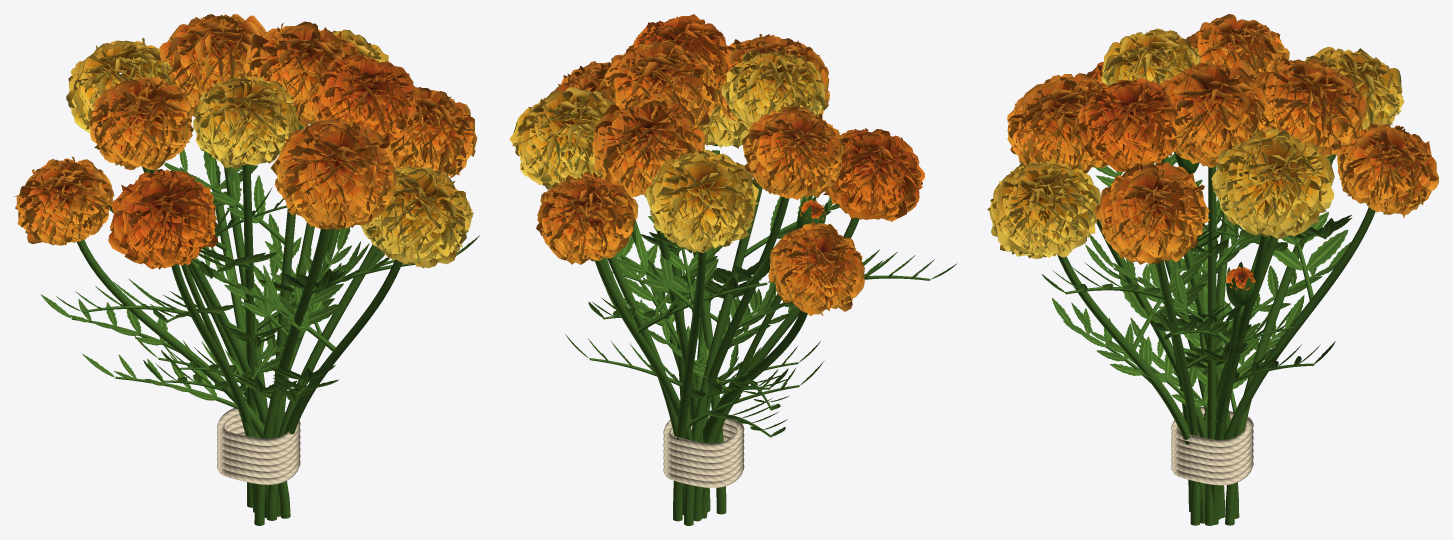
The model's file is marigold_cluster_hero.glb.
The picture shows the model from 3 angles, left to right: view 1: azimuth 30°, elevation 25°; view 2: azimuth 150°, elevation 25°; view 3: azimuth 270°, elevation 25°; orthographic projection. The views are drawn at different scales.
Parts seen in each view (by area): view 1: marigold_cluster_hero; view 2: marigold_cluster_hero; view 3: marigold_cluster_hero.
Boxes of the visible parts, x1,y1,x2,y2 form: marigold_cluster_hero: (14,14,479,525); marigold_cluster_hero: (509,14,957,525); marigold_cluster_hero: (987,14,1438,525).
Bounding box in the file's own units: 0.3026 × 0.3295 × 0.2887.
3 materials, 3 textured.
